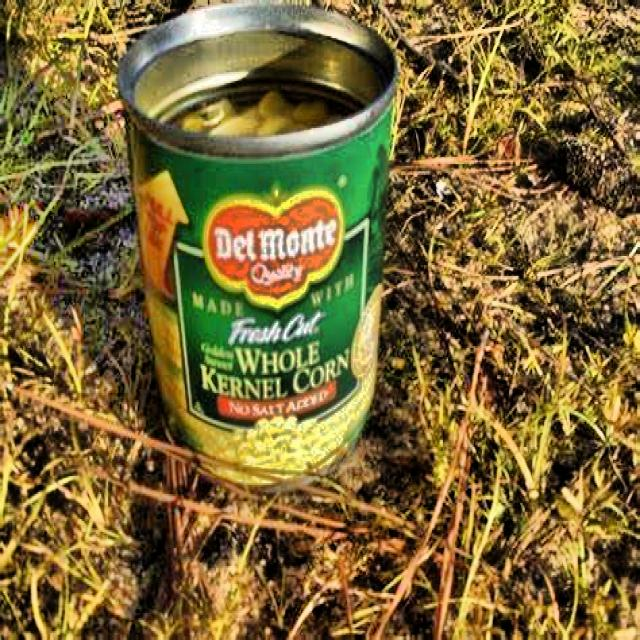Cans: (119, 24, 395, 462)
